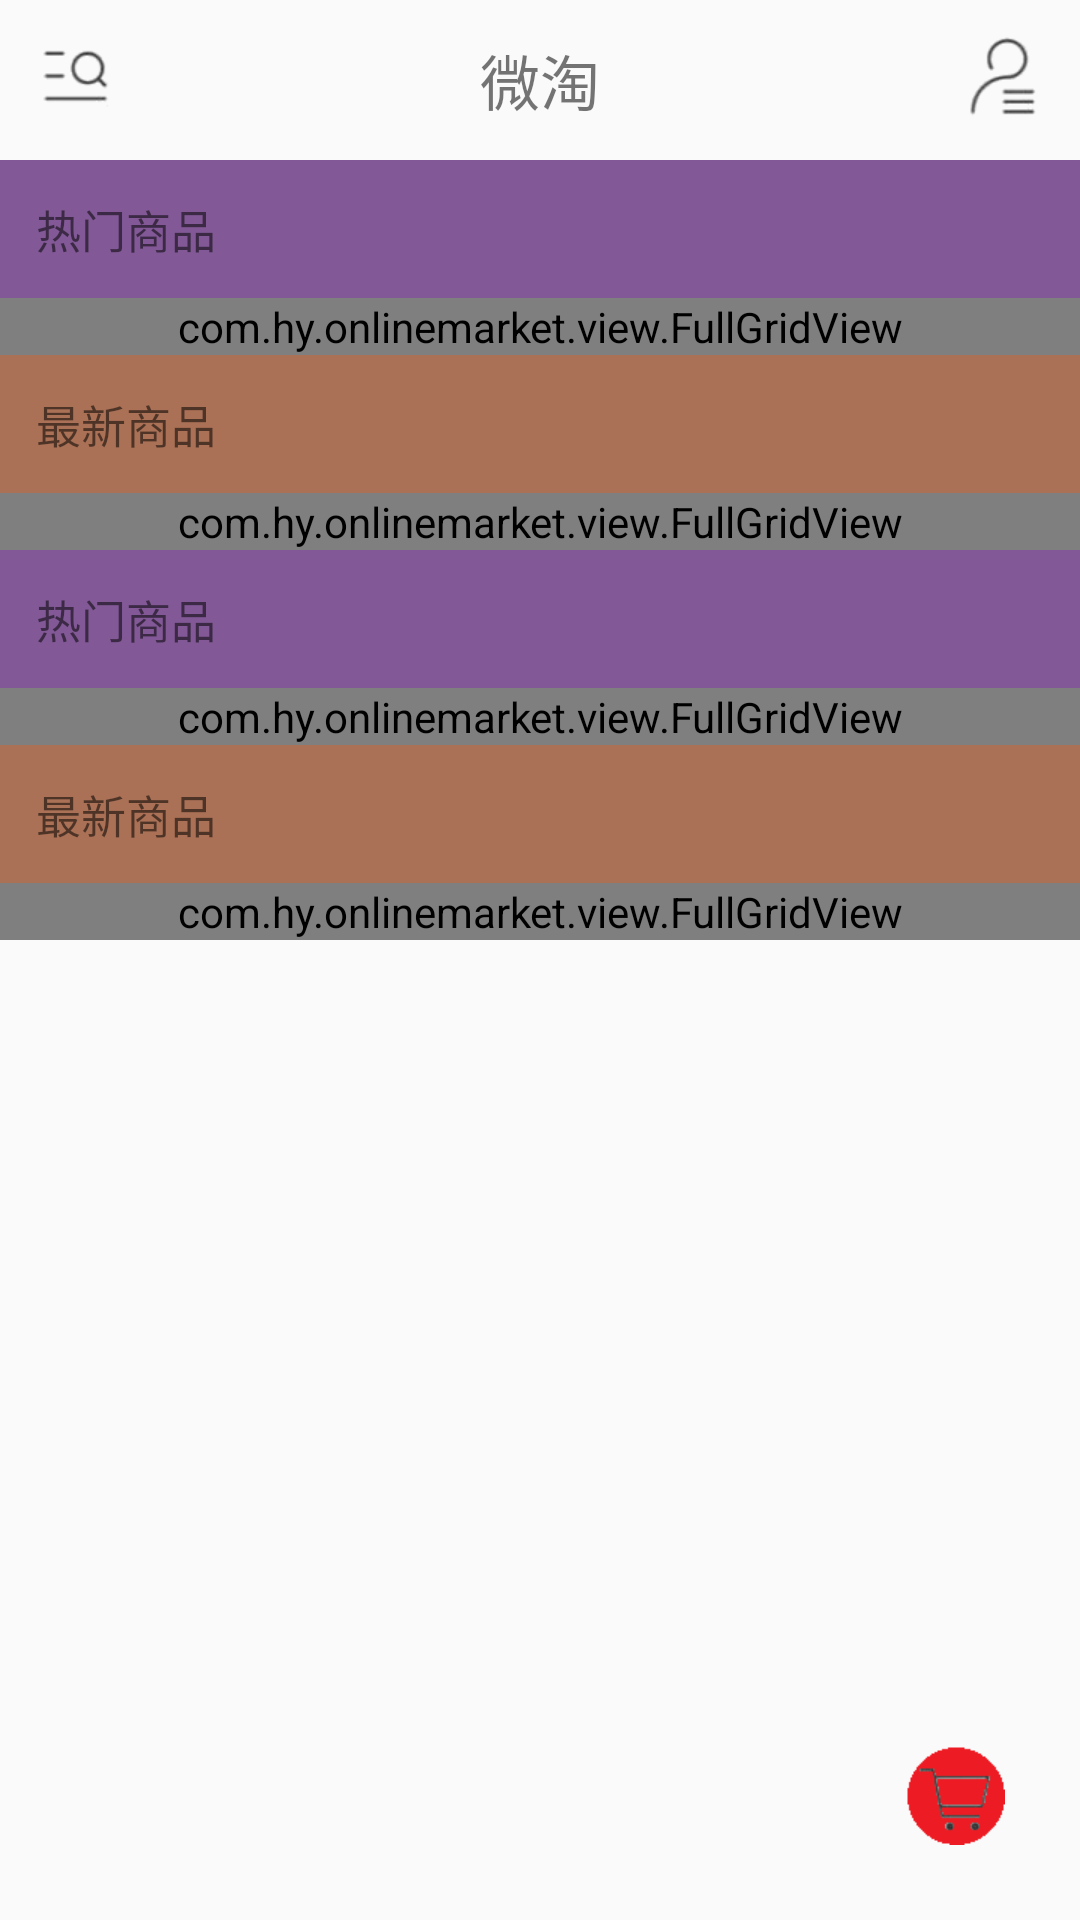

Named icons in this screenshot (1080px×1920px) and their bounding boxes, (x1, y1, x2, y2):
kinds: (44, 51, 107, 101)
me menu: (970, 38, 1035, 114)
shopping car: (907, 1747, 1005, 1845)
